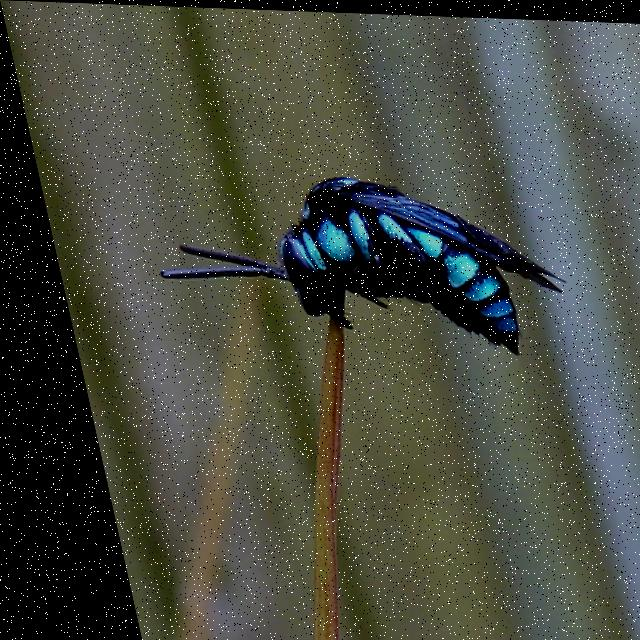Thyreus: (122, 164, 576, 376)
